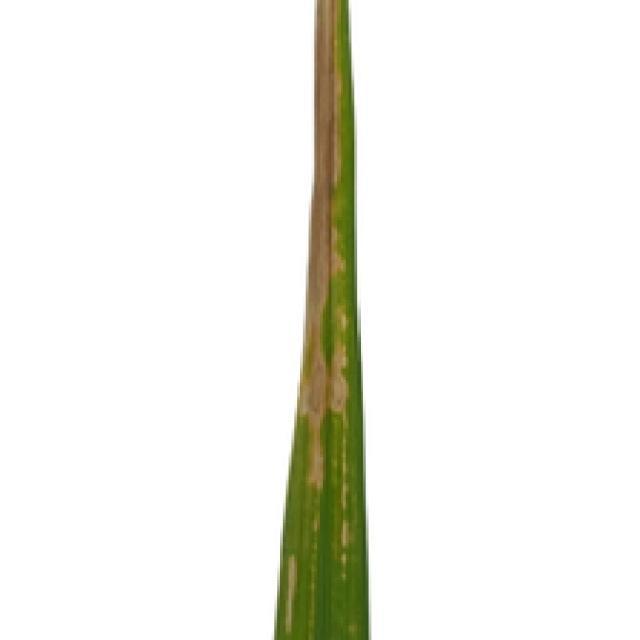Rice___Bacterial_Leaf_Blight: (272, 0, 372, 637)
